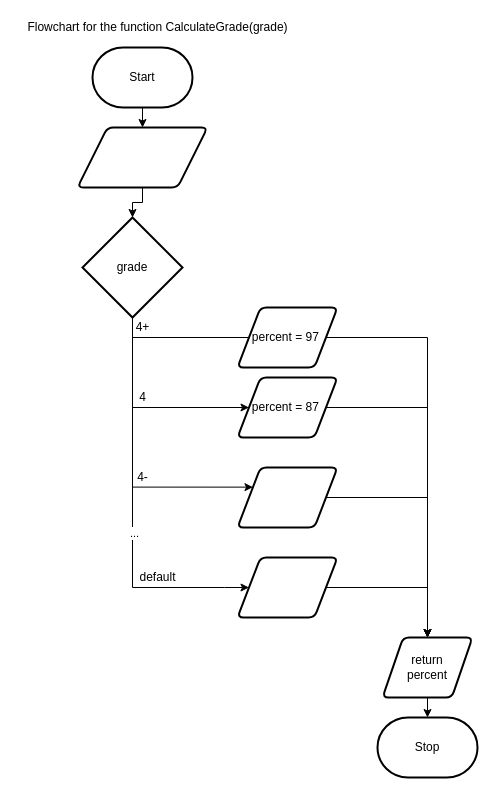
Some shapes in this 495 by 795 pixel diagram are drawn without their labels. The centre of each missing label's shape, as x and y in pixels:
"get user grade as a level" belongs at (x=142, y=157).
"percent = -1" belongs at (x=287, y=587).
"percent = 80" belongs at (x=287, y=497).
